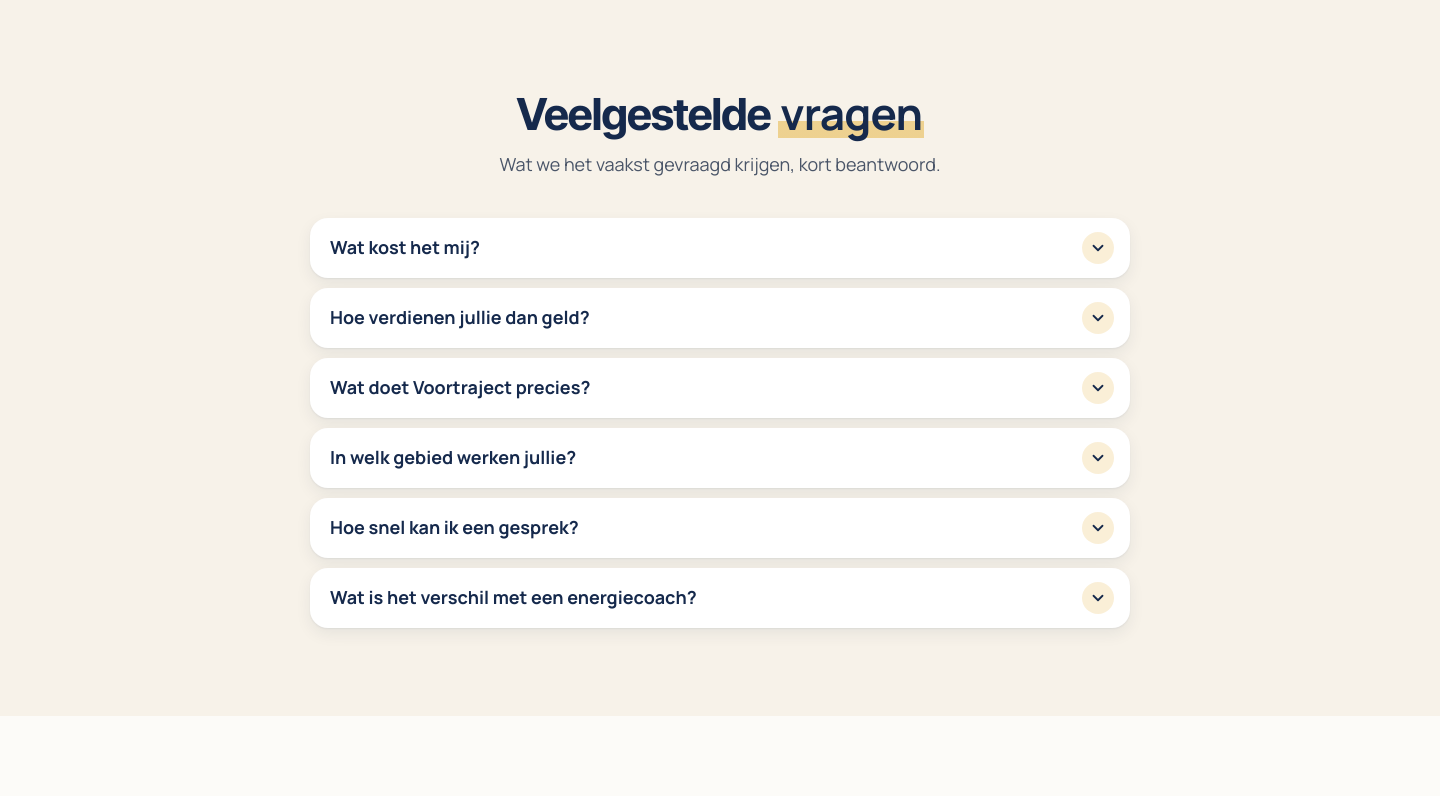
Test: veelgestelde vragen › houdt één vraag tegelijk open, met aria-expanded en aria-controls
What coordinates should you click on to do the following:
click the button "Wat kost het mij?"
I would click on:
 (405, 247)
Its box is 310,218 -> 1130,278.
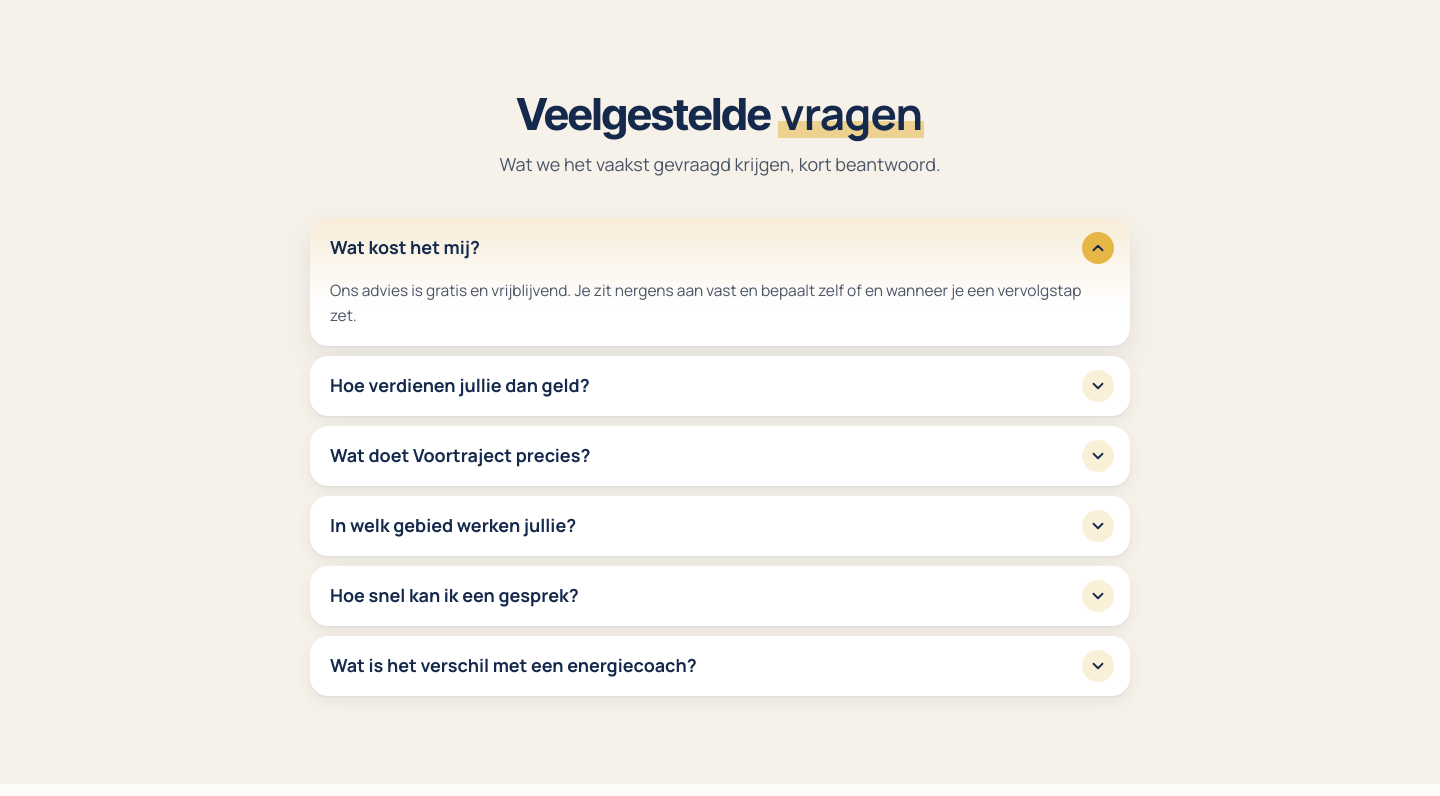
Expected: the button "Wat kost het mij?" is expanded, 310,218 -> 1130,278
What coordinates should you click on to do the following:
click the button "Hoe verdienen jullie dan geld?"
I would click on:
 (460, 385)
Its box is 310,356 -> 1130,416.
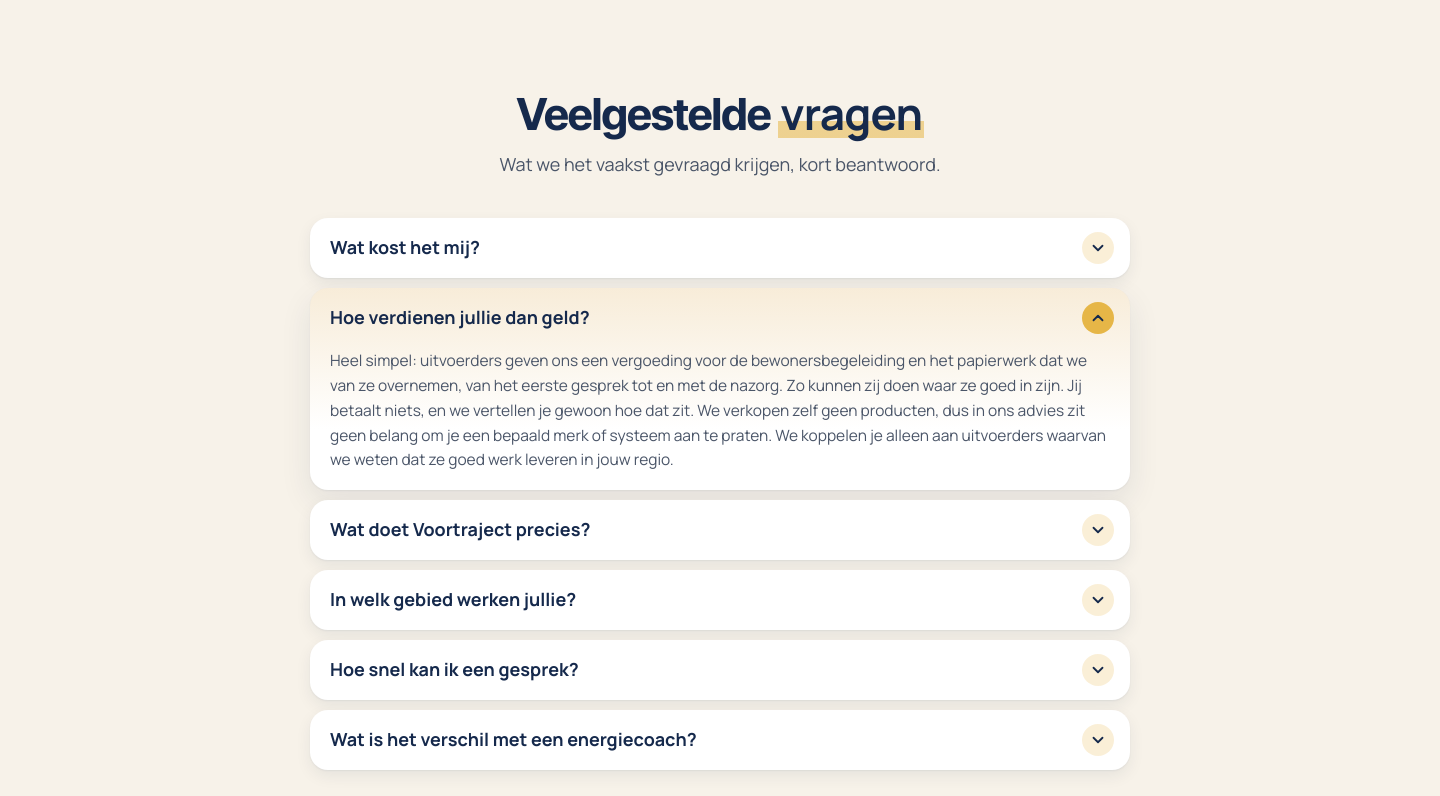
Expected: the button "Wat kost het mij?" is collapsed, 310,218 -> 1130,278
Expected: the button "Hoe verdienen jullie dan geld?" is expanded
What coordinates should you click on to do the following:
click the button "Hoe verdienen jullie dan geld?"
I would click on:
 (460, 317)
Its box is 310,288 -> 1130,348.
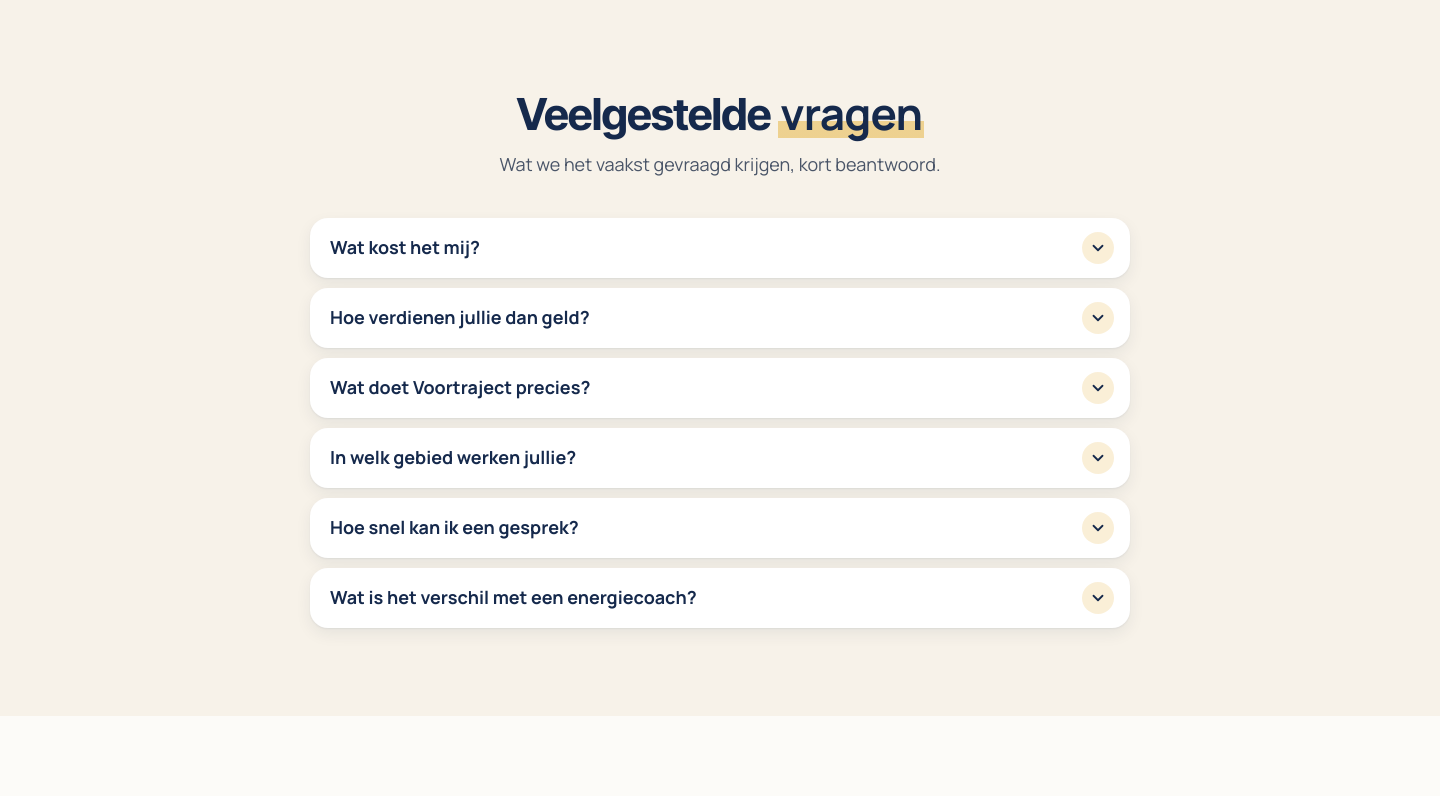
Expected: the button "Hoe verdienen jullie dan geld?" is collapsed, 310,288 -> 1130,348
